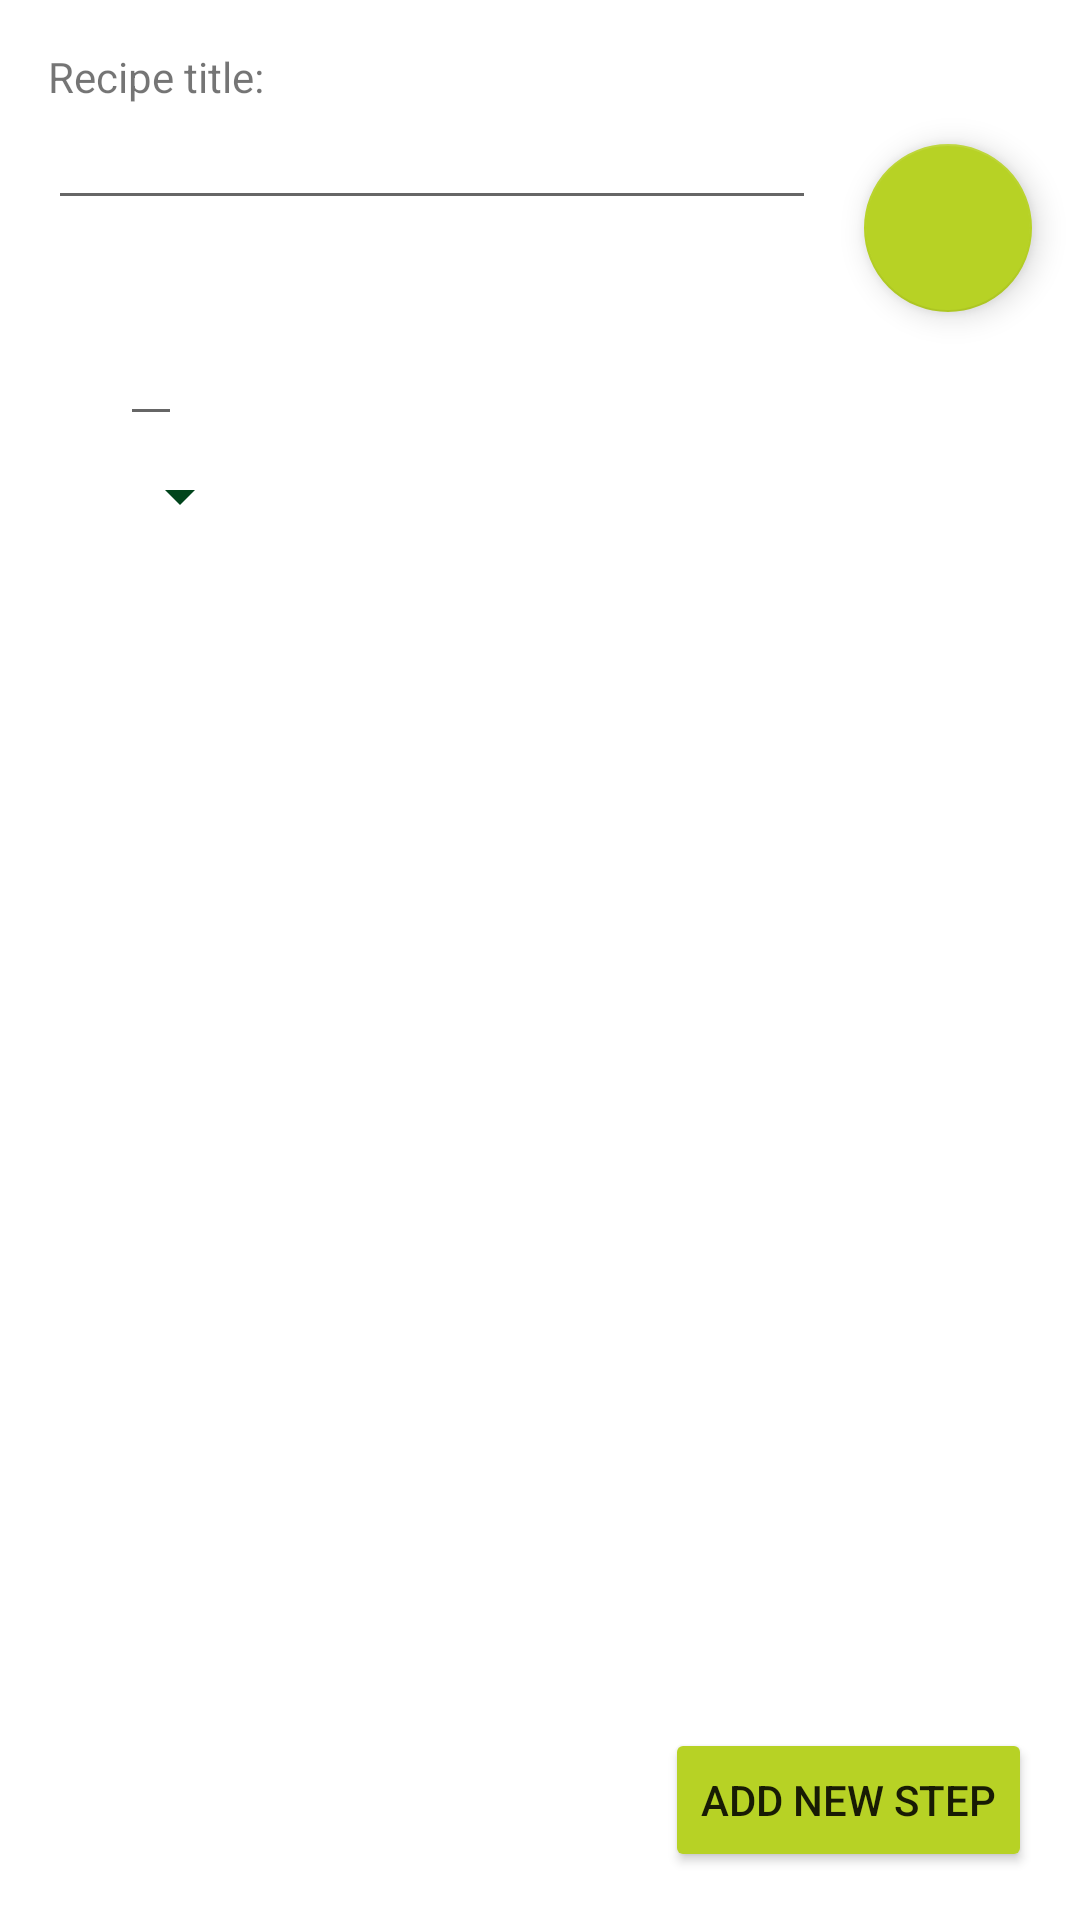

Icons on this 1080px×1920px Android screen, each with the point to tap as point (x, y):
drop down: point (180, 497)
